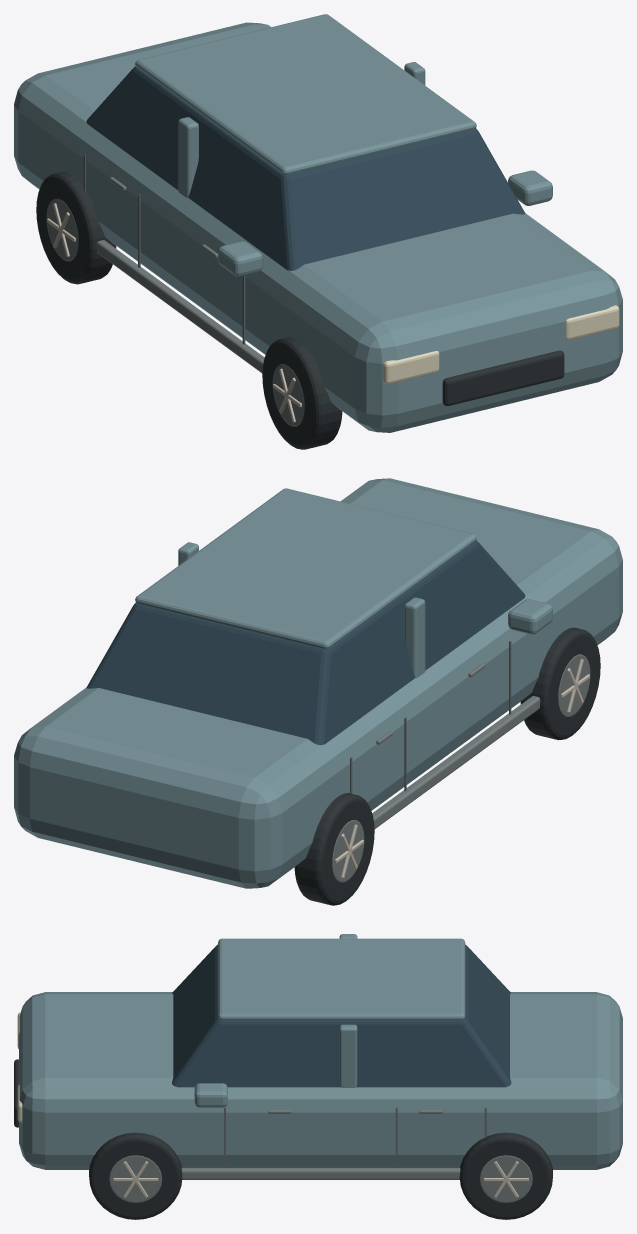
File: car-material-rich.glb
3 views of the same model, one above another, from view 1: azimuth 30°, elevation 25°; view 2: azimuth 150°, elevation 25°; view 3: azimuth 270°, elevation 25° (orthographic). The views are drawn at different scales.
Visible parts, largest first — view 1: paint, glass, rubber, frame, lamp, stone, roof.001; view 2: paint, glass, rubber, frame, stone; view 3: paint, glass, rubber, frame, stone.
Part boxes in pixels (x1,y1,x2,y2): paint: (14, 14, 622, 432); glass: (86, 66, 525, 270); rubber: (36, 171, 564, 449); frame: (46, 177, 304, 426); lamp: (383, 305, 619, 384); stone: (47, 203, 301, 422); roof.001: (83, 154, 245, 344); paint: (14, 478, 622, 888); glass: (86, 540, 525, 745); rubber: (294, 627, 600, 905); frame: (332, 654, 590, 882); stone: (335, 659, 589, 878); paint: (19, 934, 622, 1169); glass: (172, 944, 511, 1087); rubber: (14, 1059, 552, 1219); frame: (109, 1110, 532, 1203); stone: (113, 1161, 528, 1197).
Size of the model in its own units: 2.2 by 1.51 by 4.44.
